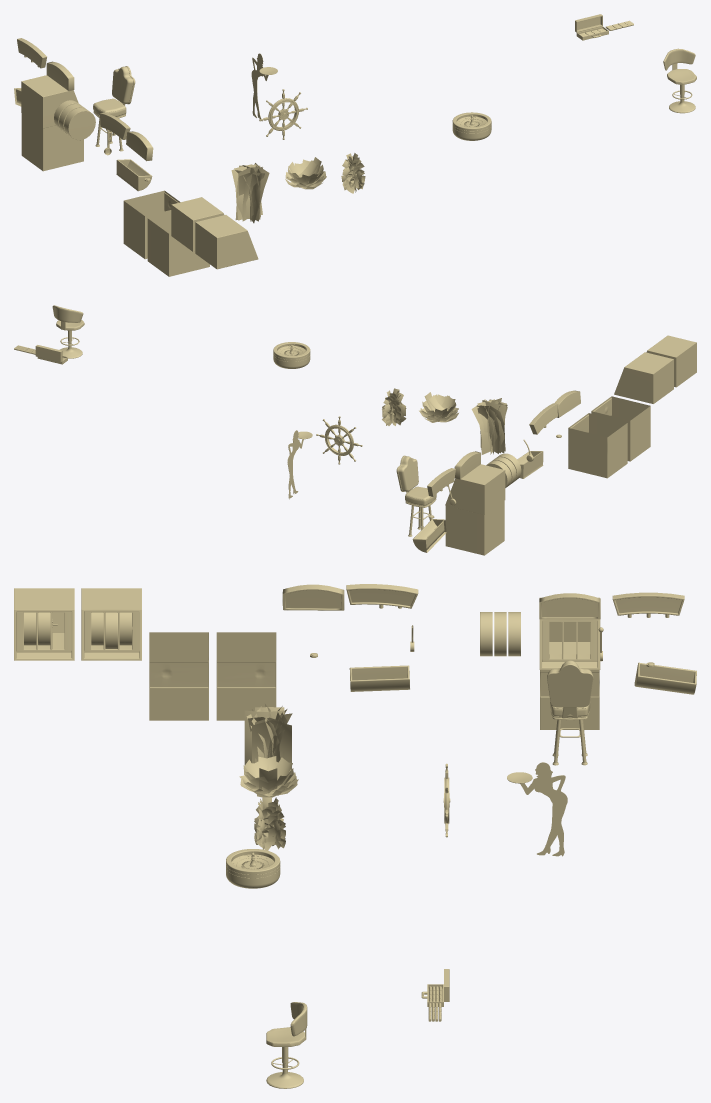
The model's file is TextureSet9_SmallProps_Plants_Slots_VIPGirl.fbx.
3 renders of one model, top to bottom at view 1: azimuth 30°, elevation 25°; view 2: azimuth 150°, elevation 25°; view 3: azimuth 270°, elevation 25°, orthographic. The views are drawn at different scales.
Visible parts, largest first — view 1: Slot_Machine_Base, Broken_Slot_Machine_Top_Option_1, Broken_Slot_Machine_Dent_Left, Broken_Slot_Machine_Dent_Right, Fern_3, Broken_Slot_Machine_Top_Option_2, SlotMachine_Chair, PokerTable_Chair, Fern_1, ShipWheel_Combined, Slot_Wheel1, Roulette_Base (+7 smaller); view 2: Slot_Machine_Base, Broken_Slot_Machine_Dent_Right, Broken_Slot_Machine_Top_Option_2, Broken_Slot_Machine_Dent_Left, Fern_3, SlotMachine_Chair, Broken_Slot_Machine_Top_Option_1, PokerTable_Chair, Fern_1, ShipWheel_Combined, Coin_Tray, Fern_2 (+7 smaller); view 3: Slot_Machine_Base, Broken_Slot_Machine_Dent_Left, Broken_Slot_Machine_Dent_Right, Broken_Slot_Machine_Top_Option_1, Broken_Slot_Machine_Top_Option_2, SlotMachine_Chair, Fern_3, PokerTable_Chair, Fern_1, WomanCutout, Top_Display_Option_1_Broken, SlotMachine_Top (+5 smaller).
Boxes of the visible parts, x1,y1,x2,y2 form: Slot_Machine_Base: (21, 61, 83, 171); Broken_Slot_Machine_Top_Option_1: (195, 215, 258, 269); Broken_Slot_Machine_Dent_Left: (147, 212, 209, 276); Broken_Slot_Machine_Dent_Right: (123, 190, 180, 259); Fern_3: (231, 163, 269, 223); Broken_Slot_Machine_Top_Option_2: (171, 197, 224, 251); SlotMachine_Chair: (93, 66, 135, 151); PokerTable_Chair: (663, 48, 696, 113); Fern_1: (285, 157, 326, 189); ShipWheel_Combined: (259, 89, 307, 139); Slot_Wheel1: (64, 107, 95, 140); Roulette_Base: (452, 112, 491, 140); Slot_Machine_Base: (445, 451, 505, 555); Broken_Slot_Machine_Dent_Right: (568, 413, 627, 478); Broken_Slot_Machine_Top_Option_2: (614, 352, 673, 403); Broken_Slot_Machine_Dent_Left: (591, 396, 650, 461); Fern_3: (471, 398, 507, 454); SlotMachine_Chair: (396, 455, 436, 536); Broken_Slot_Machine_Top_Option_1: (646, 335, 696, 387); PokerTable_Chair: (52, 305, 84, 358); Fern_1: (419, 392, 458, 422); ShipWheel_Combined: (316, 416, 362, 464); Coin_Tray: (412, 519, 446, 552); Fern_2: (382, 388, 406, 425); Slot_Machine_Base: (539, 593, 600, 729); Broken_Slot_Machine_Dent_Left: (149, 632, 208, 720); Broken_Slot_Machine_Dent_Right: (216, 632, 276, 720); Broken_Slot_Machine_Top_Option_1: (14, 588, 74, 660); Broken_Slot_Machine_Top_Option_2: (81, 588, 141, 660); SlotMachine_Chair: (547, 660, 593, 765); Fern_3: (244, 704, 292, 769); PokerTable_Chair: (266, 1002, 307, 1088); Fern_1: (239, 756, 298, 797); WomanCutout: (520, 762, 567, 856); Top_Display_Option_1_Broken: (282, 584, 344, 610); SlotMachine_Top: (612, 592, 684, 617).
Size of the model in its own units: 13.85 by 2.17 by 10.13.
